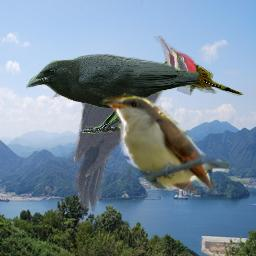Crow: (26, 54, 200, 135)
Cuckoo: (99, 87, 229, 194), (163, 54, 244, 96)
Woodpecker: (48, 36, 201, 213)
